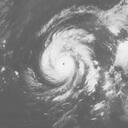cyclone: (40, 28, 97, 85)
